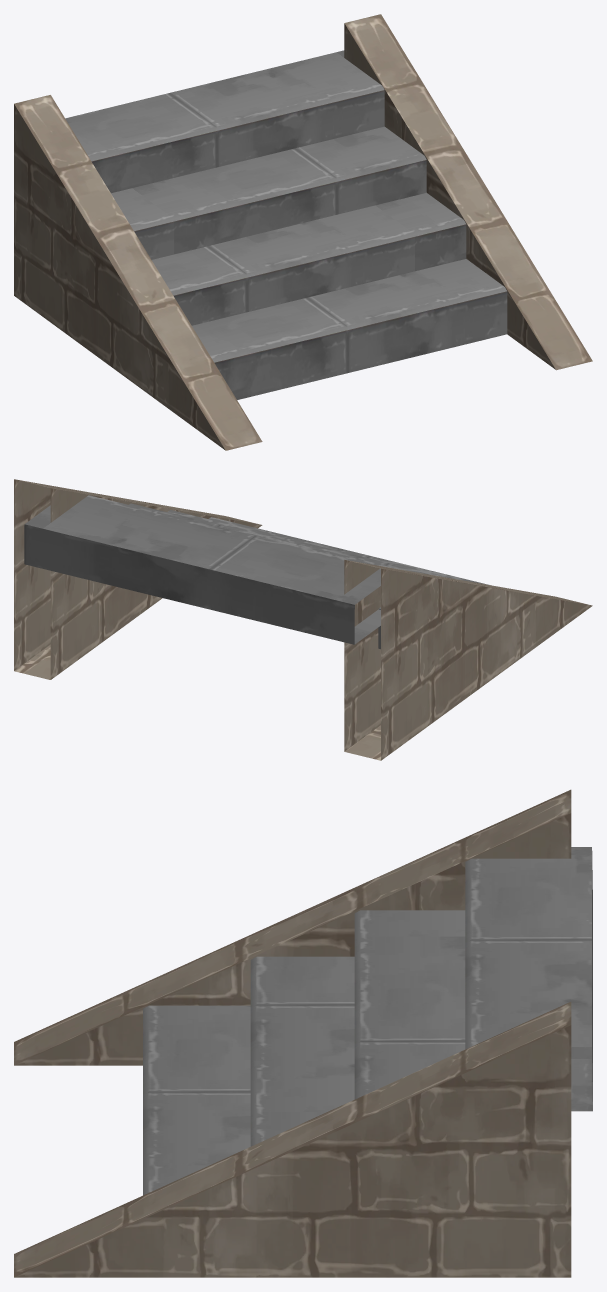
The model's file is Stairs_Exterior_NoFirstStep.gltf.
3 renders of one model, top to bottom at view 1: azimuth 30°, elevation 25°; view 2: azimuth 150°, elevation 25°; view 3: azimuth 270°, elevation 25°, orthographic. The views are drawn at different scales.
Visible parts, largest first — view 1: Stairs_Exterior_NoFirstStep; view 2: Stairs_Exterior_NoFirstStep; view 3: Stairs_Exterior_NoFirstStep.
Boxes of the visible parts, left/top/right/bottom form: Stairs_Exterior_NoFirstStep: left=14, top=14, right=592, bottom=450; Stairs_Exterior_NoFirstStep: left=14, top=479, right=592, bottom=760; Stairs_Exterior_NoFirstStep: left=14, top=789, right=592, bottom=1277.
Size of the model in its own units: 2 by 1 by 2.08.
2 materials, 2 textured.
